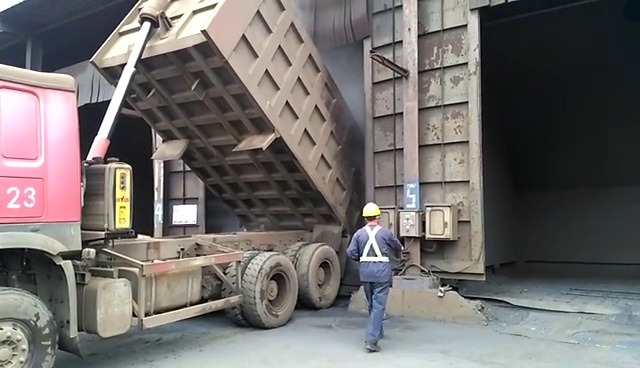dust: (333, 56, 368, 118)
truck: (0, 0, 372, 364)
